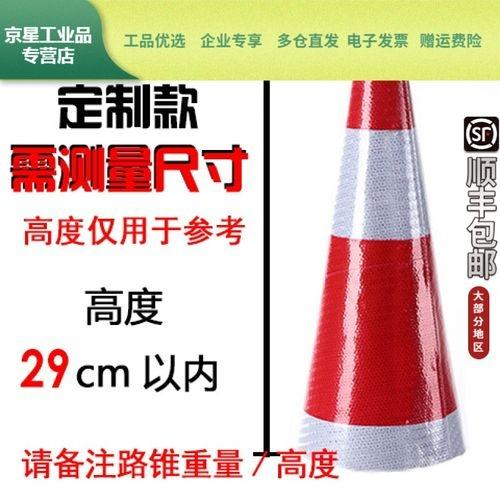cone_barrel: (289, 73, 468, 471)
